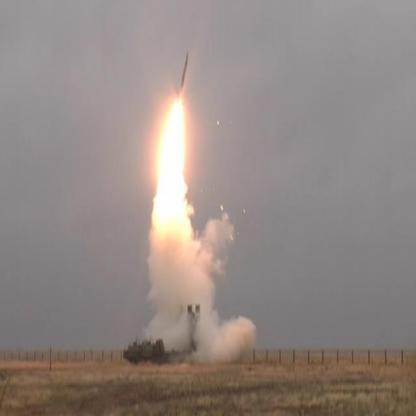MIL_TBM: (176, 46, 191, 98)
